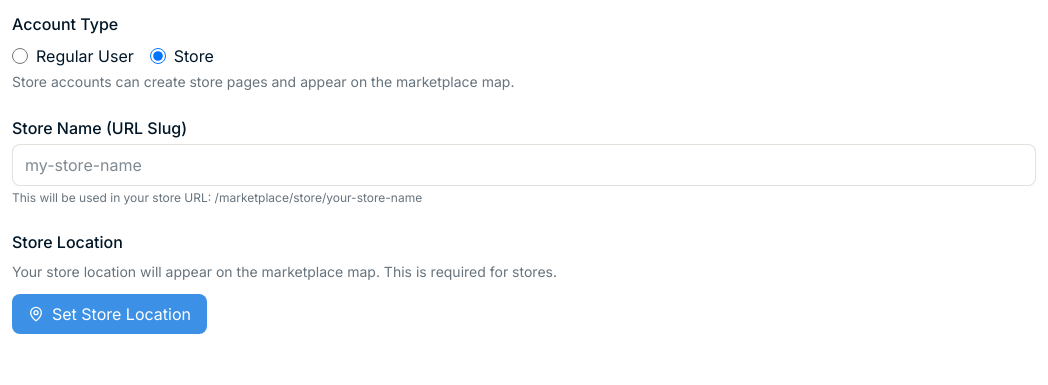
Test case: ProfileStoreTab › handles geolocation error
Click the button "Set Store Location".
click(109, 314)  # box [12,294,207,334]
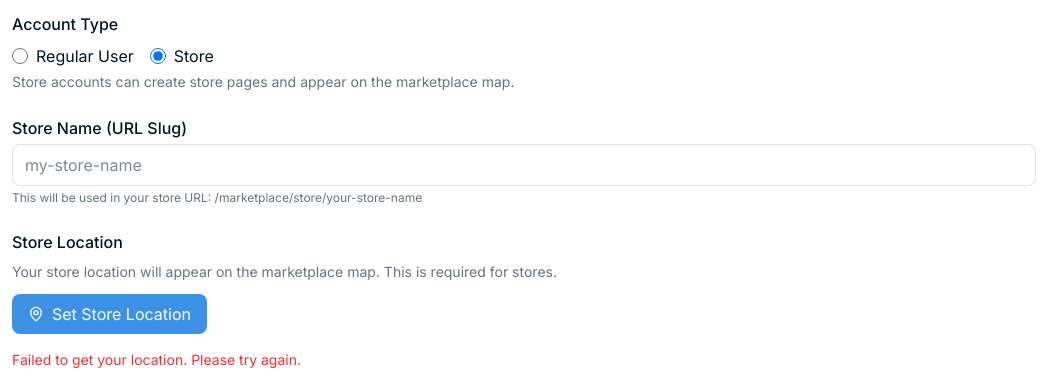
Expected: the text "Failed to get your location. Please try again." is shown, [12,351,301,368]
